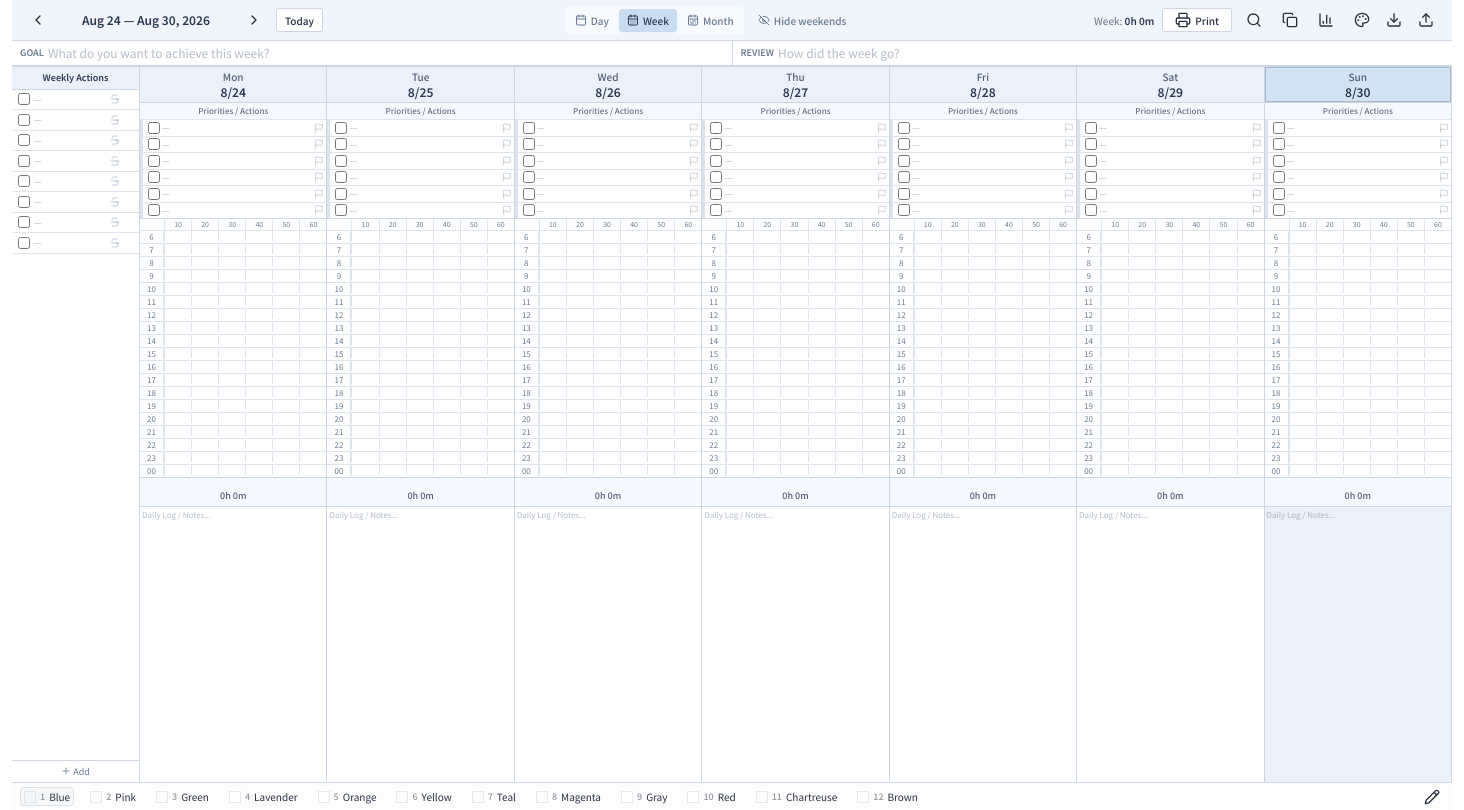
opening the day view for the first time › lands on today when today is a Sunday
The width and height of the screenshot is (1464, 810).
Click the button "Day". click: click(592, 20)
box: [567,8,617,32]
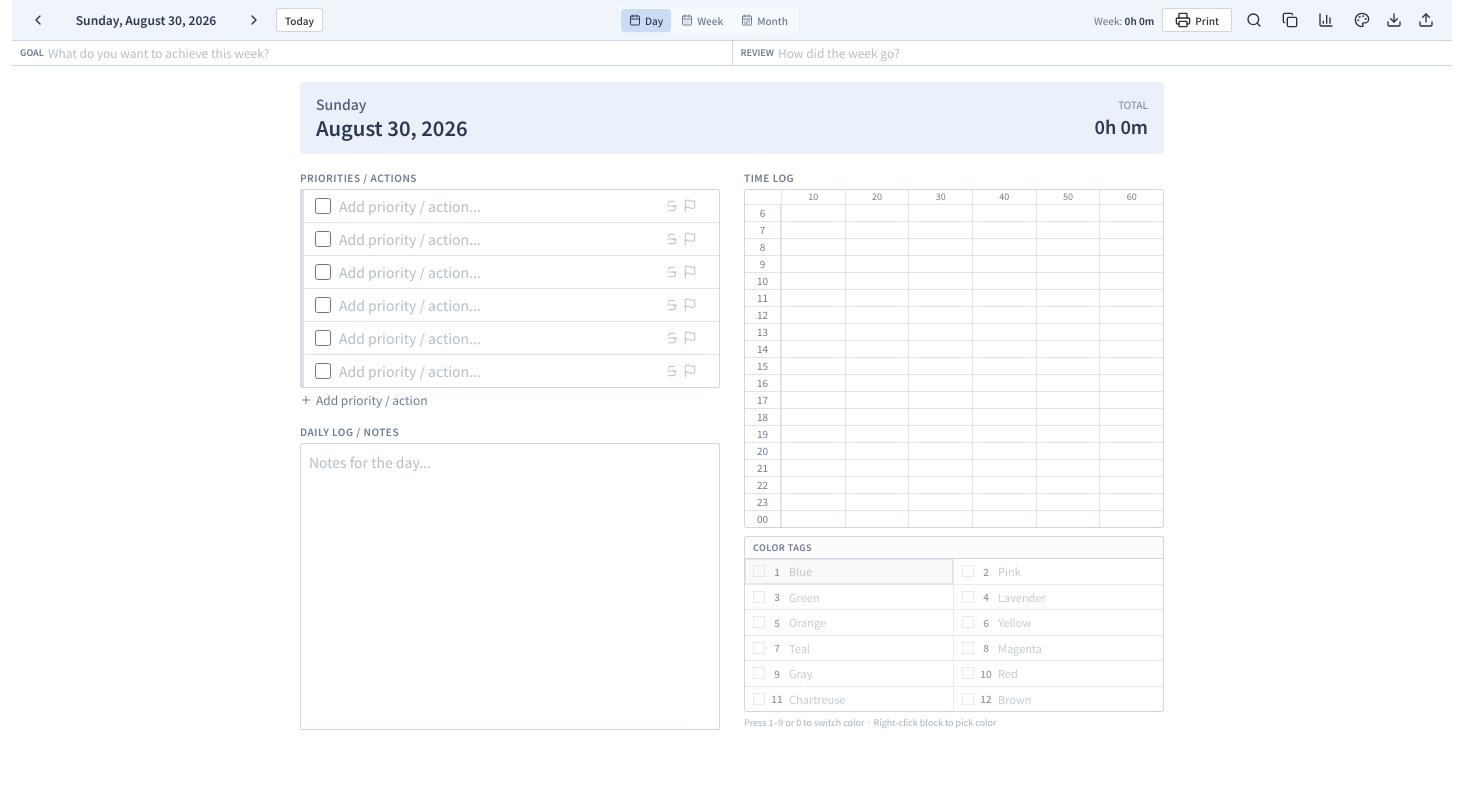
Now the text with class "font-semibold" reads "Sunday, August 30, 2026", box [76,11,216,28]
